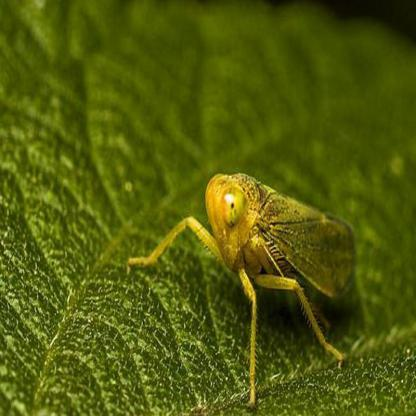green-leafhopper: (130, 171, 353, 401)
